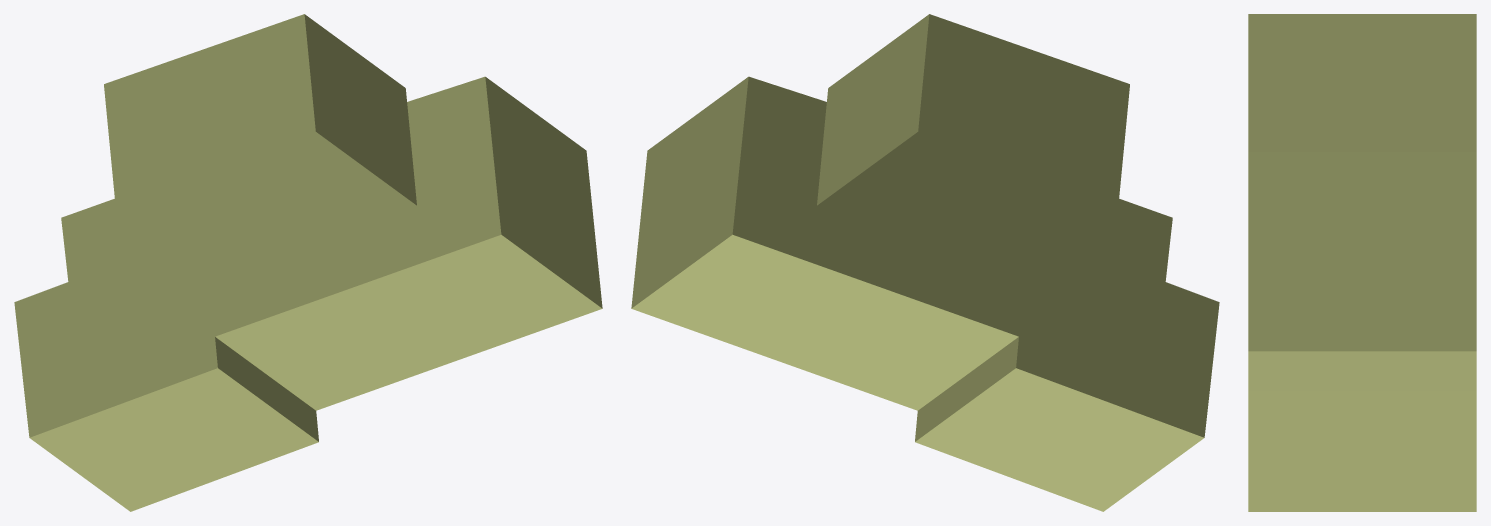
3 renders of one model, left to right at view 1: azimuth 30°, elevation 25°; view 2: azimuth 150°, elevation 25°; view 3: azimuth 270°, elevation 25°, orthographic. The views are drawn at different scales.
Parts seen in each view (by area): view 1: 0_0_2_0_1_0_1_0_1_1; view 2: 0_0_2_0_1_0_1_0_1_1; view 3: 0_0_2_0_1_0_1_0_1_1.
Part boxes in pixels (bbox=[...]): 0_0_2_0_1_0_1_0_1_1: bbox=[14, 14, 602, 511]; 0_0_2_0_1_0_1_0_1_1: bbox=[631, 14, 1219, 511]; 0_0_2_0_1_0_1_0_1_1: bbox=[1248, 14, 1476, 511].
Size of the model in its own units: 16.67 by 11.67 by 6.
